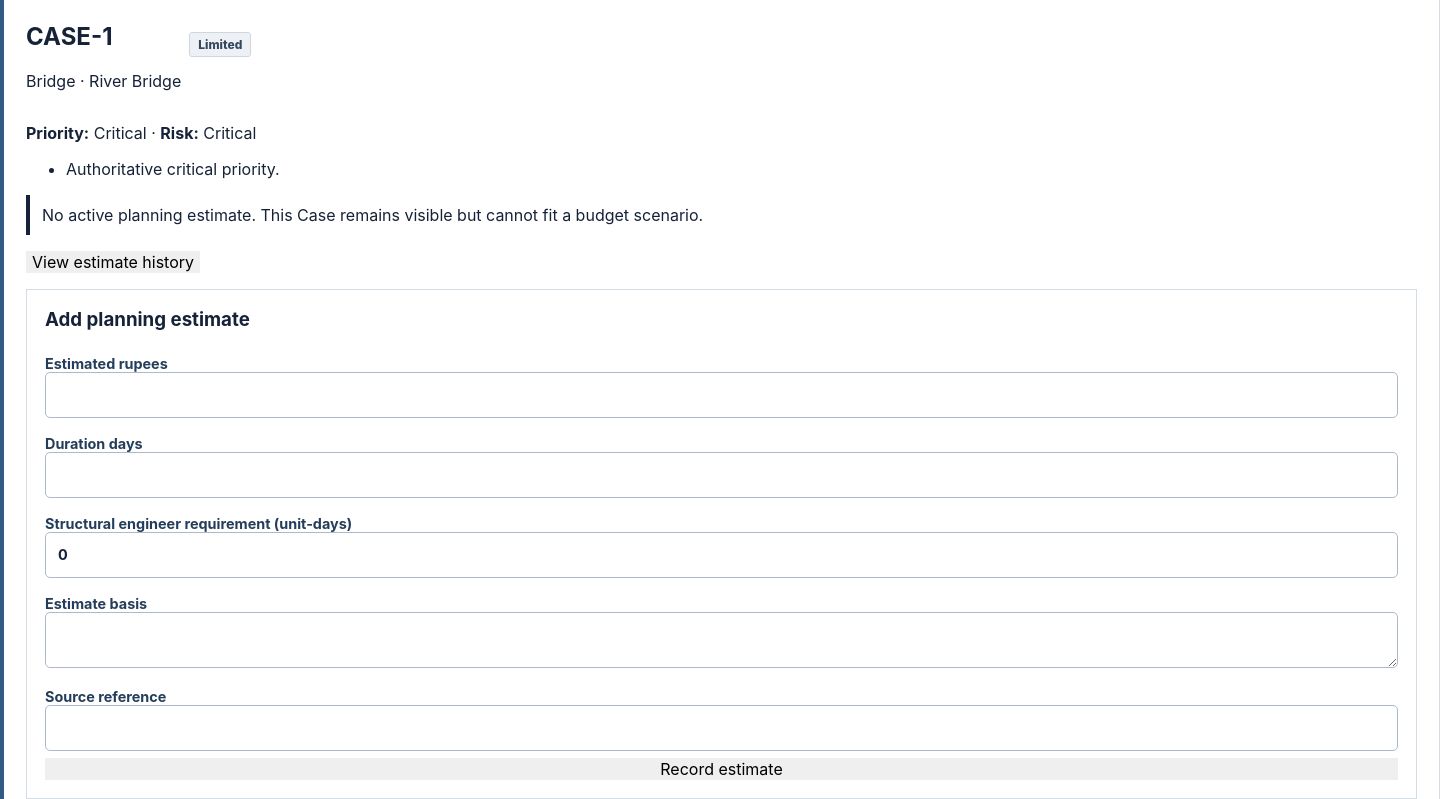
Test: Portfolio Planning › submits provenance and controlled resources, then warns when critical work is unfunded
(page scrolled)
Expected: the heading "CASE-1" is shown, left=26, top=22, right=112, bottom=51
Type "500" into the number field labelled "Estimated rupees" at (722, 395), box left=45, top=372, right=1398, bottom=418
Type "10" into the number field labelled "Duration days" at (722, 475), box left=45, top=452, right=1398, bottom=498
Replace the text in the number field labelled "Structural engineer requirement (unit-days)" with "3" at (722, 555), box left=45, top=532, right=1398, bottom=578
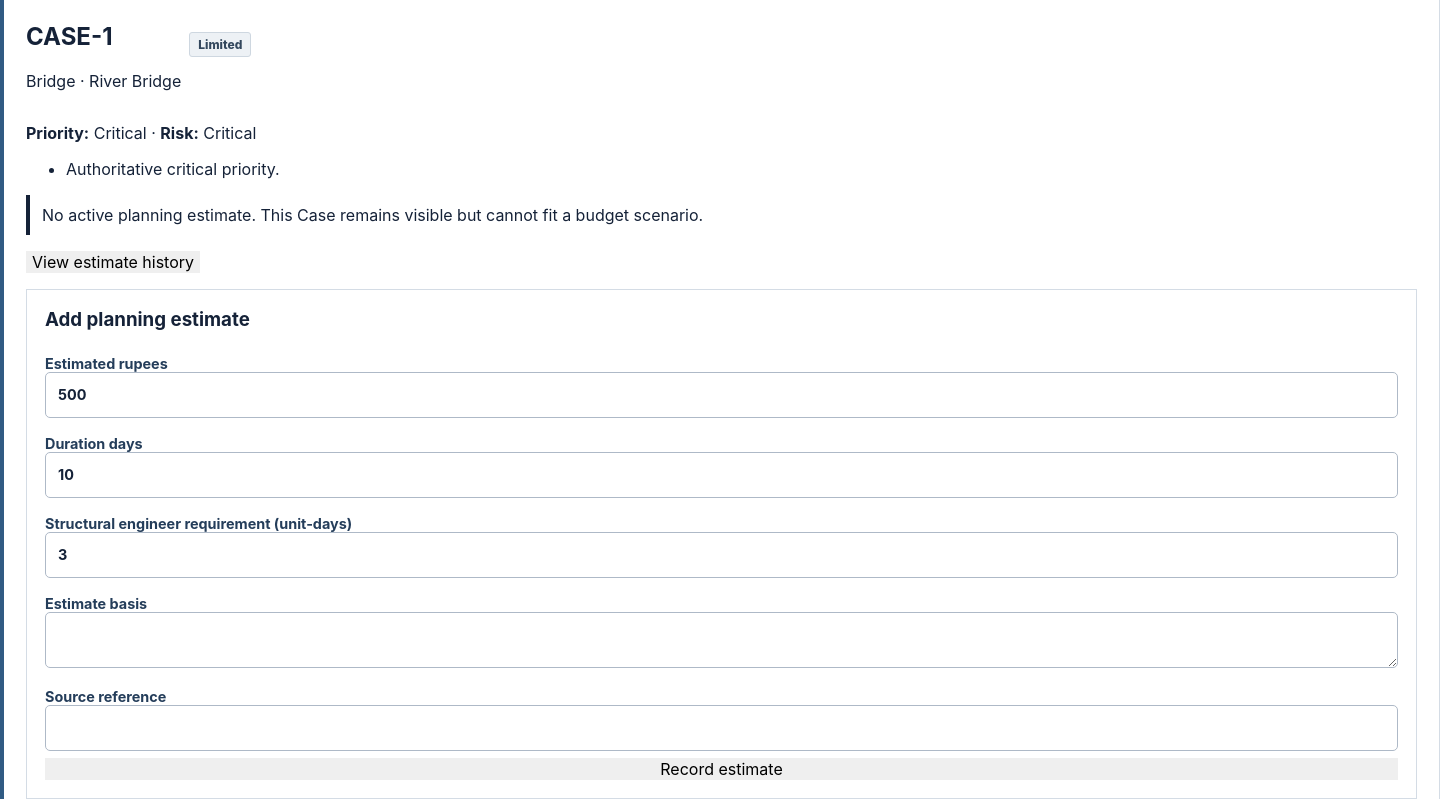
Type "Schedule of rates" into the text box labelled "Estimate basis" at (722, 640), box left=45, top=612, right=1398, bottom=668
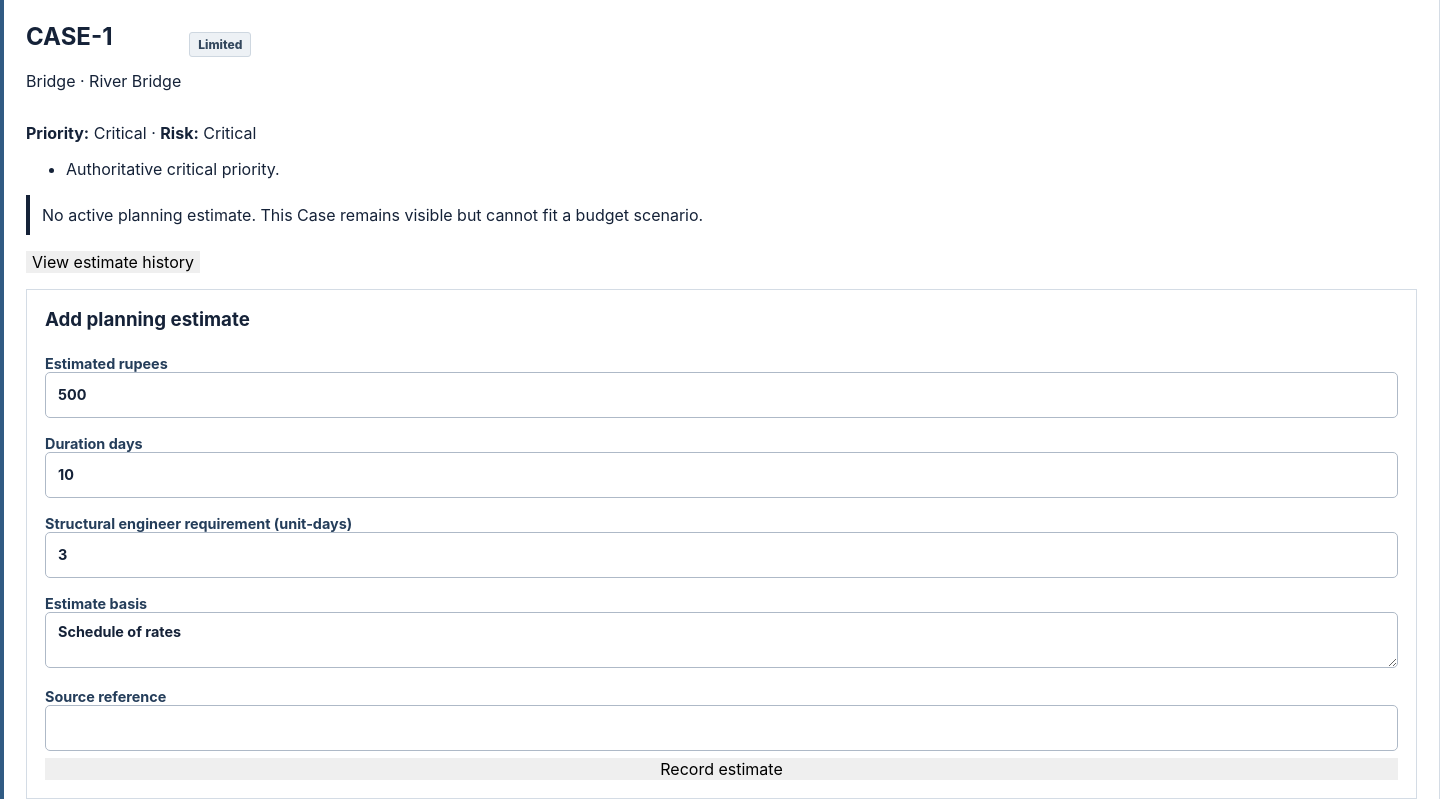
Type "SOR-2026" into the field labelled "Source reference" at (722, 728), box left=45, top=705, right=1398, bottom=751
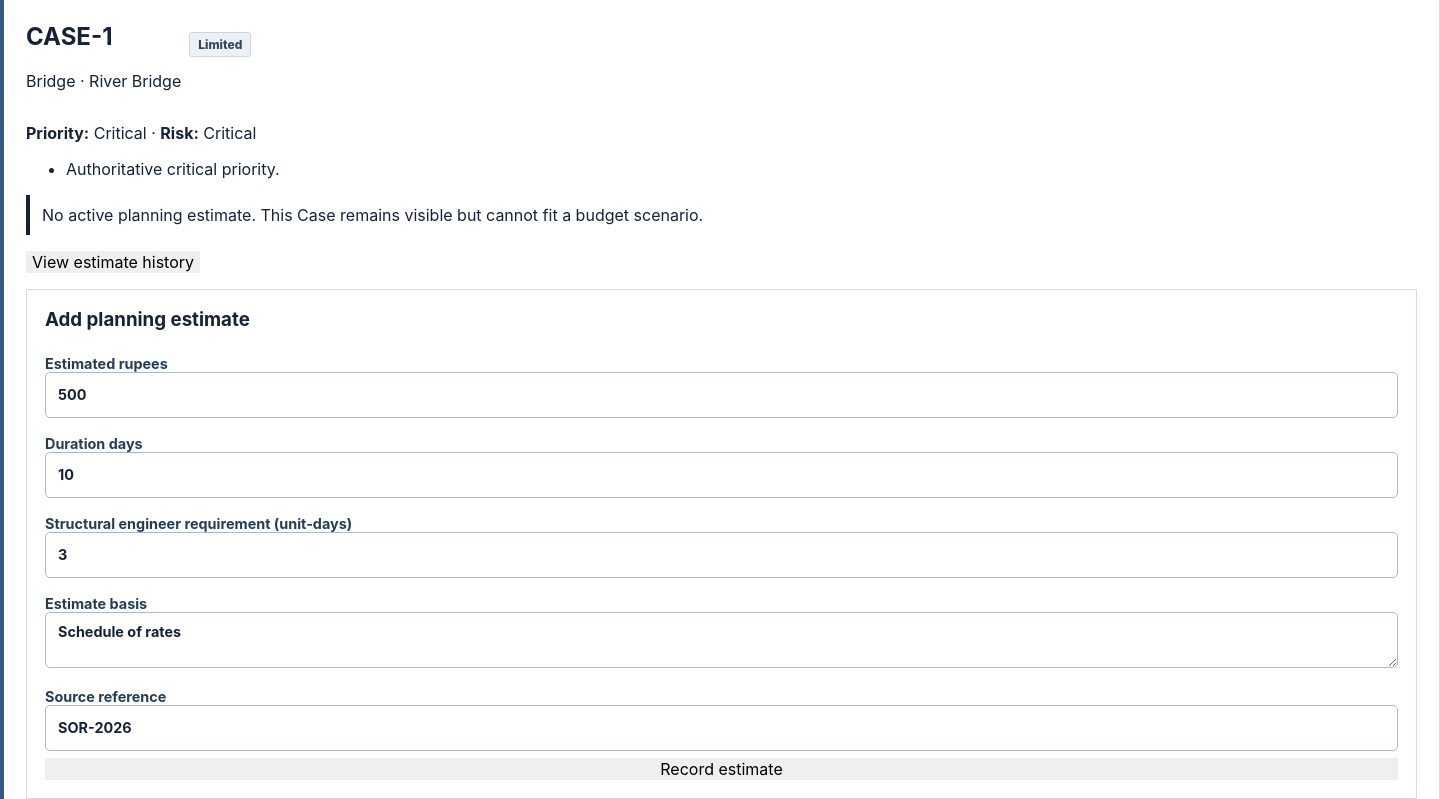
Click the button "Record estimate" at (722, 769), box left=45, top=758, right=1398, bottom=780
(page scrolled)
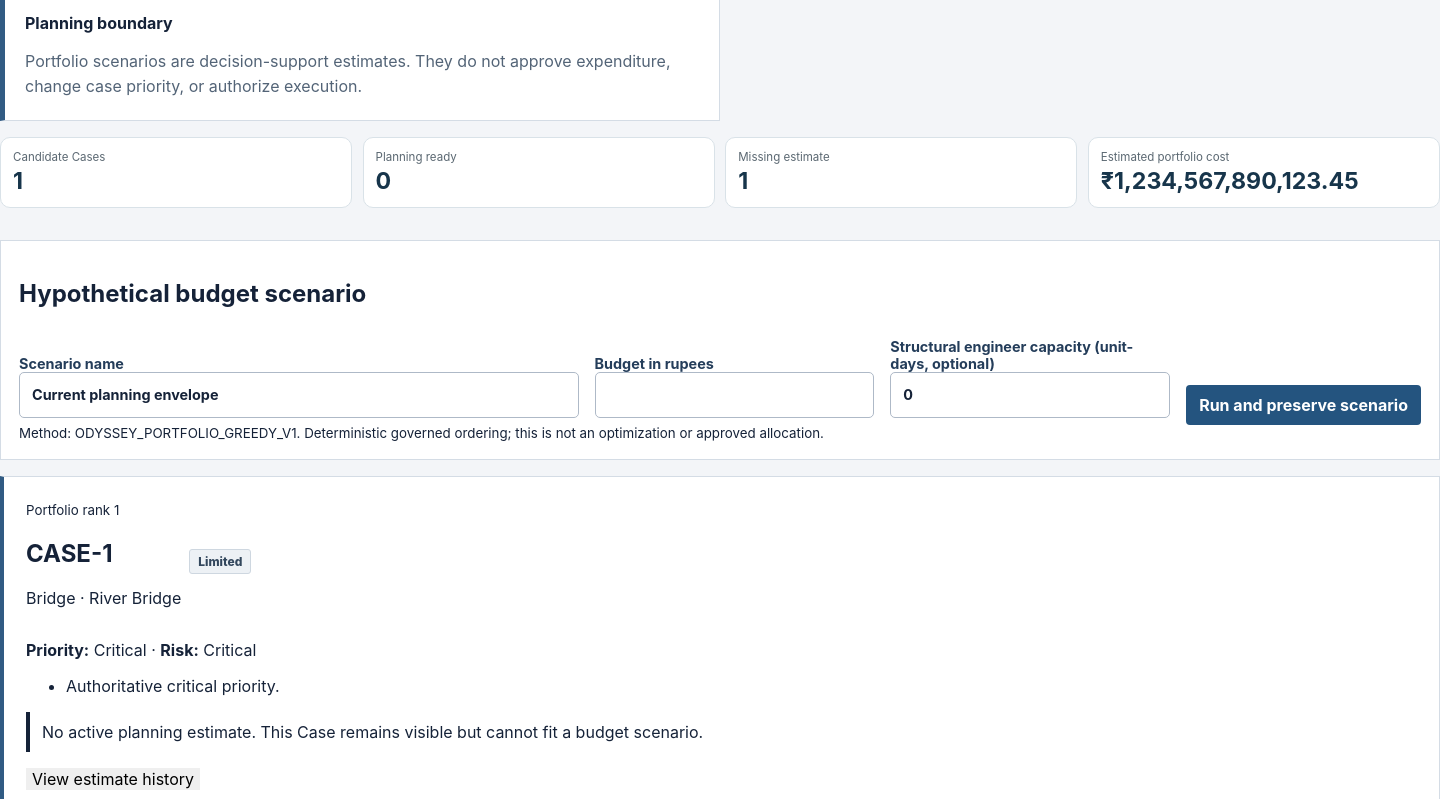
Type "100" into the number field labelled "Budget in rupees" at (734, 395), box left=595, top=372, right=874, bottom=418
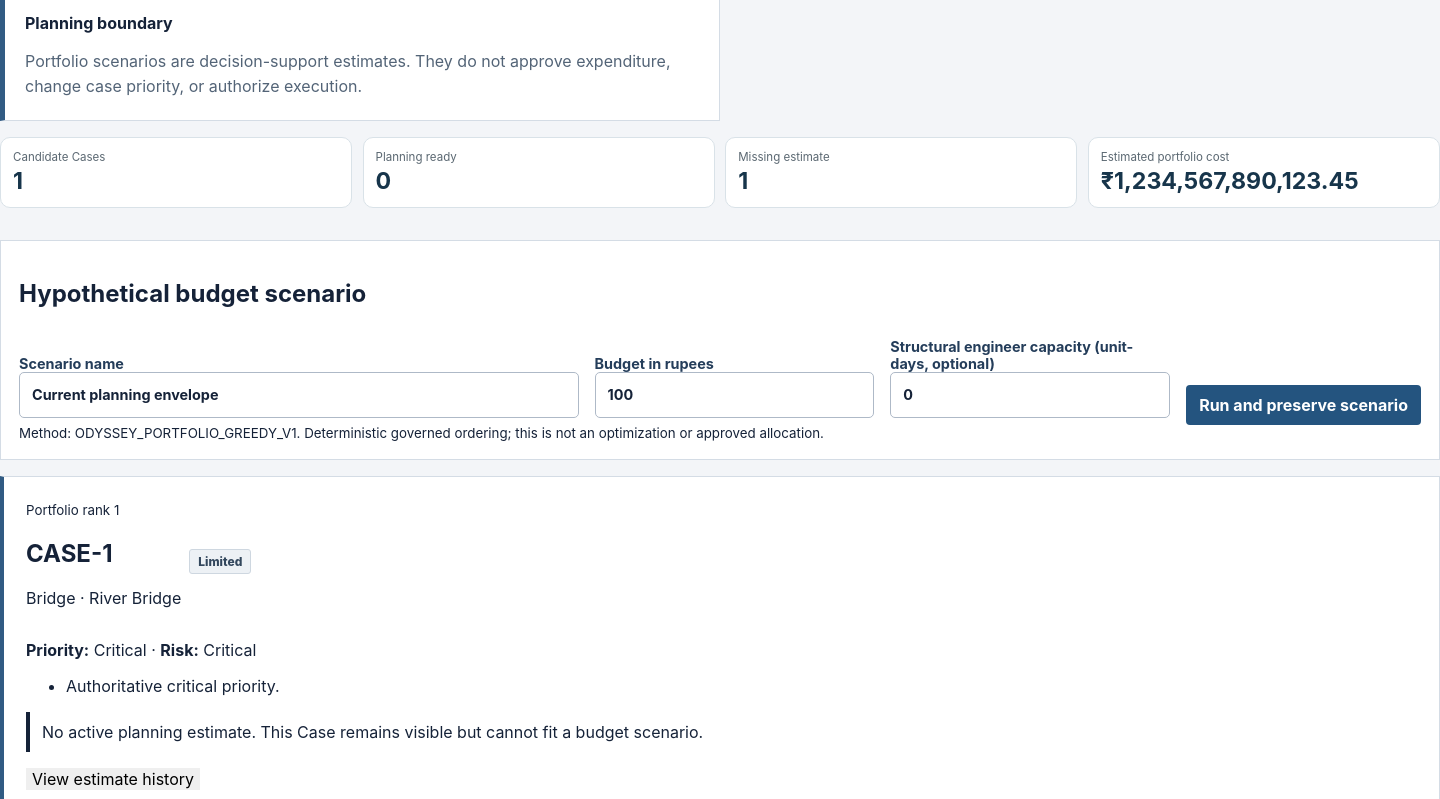
Click the button "Run and preserve scenario" at (1304, 405), box left=1186, top=385, right=1421, bottom=425
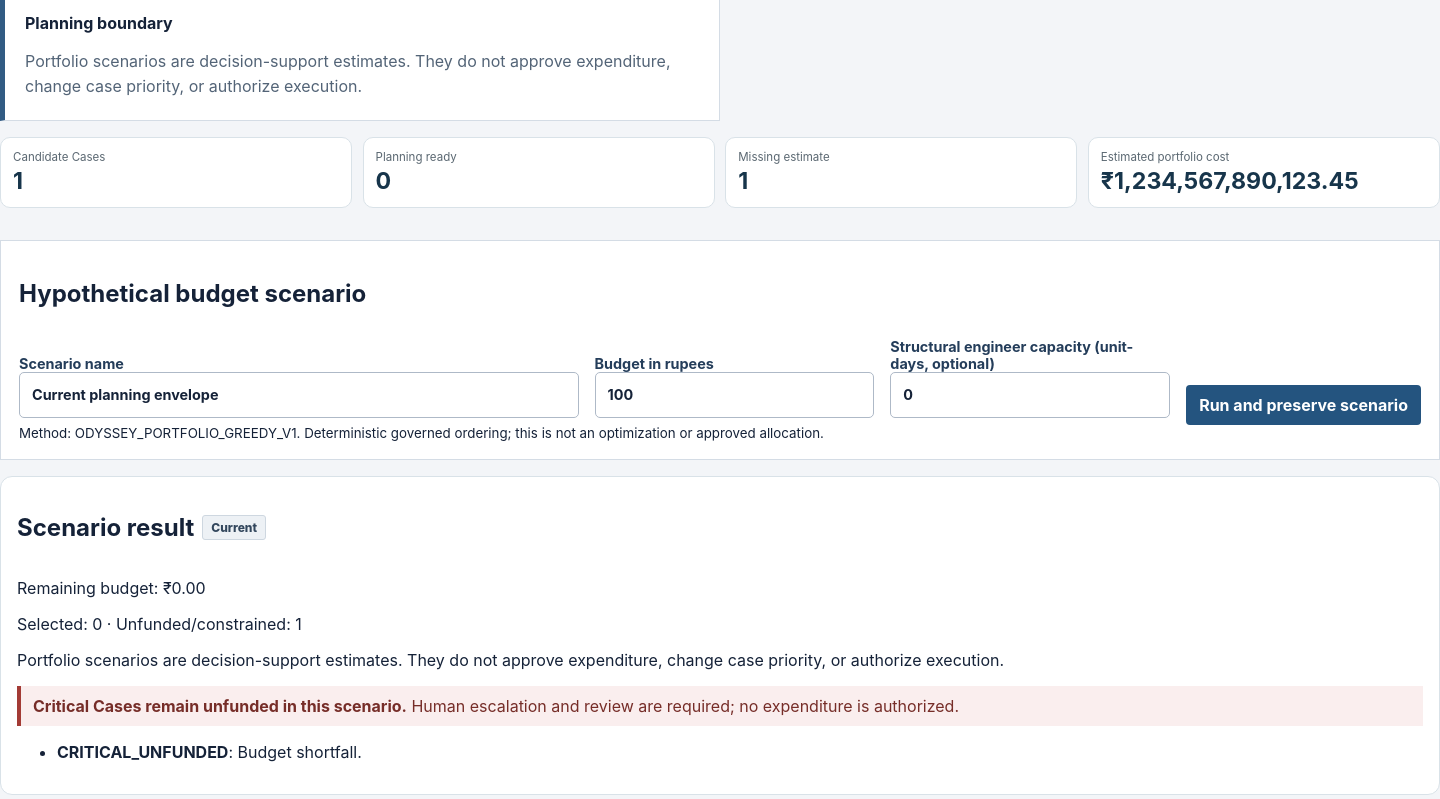
Expected: the text "Critical Cases remain unfunded in this scenario." is shown, left=33, top=696, right=407, bottom=716
